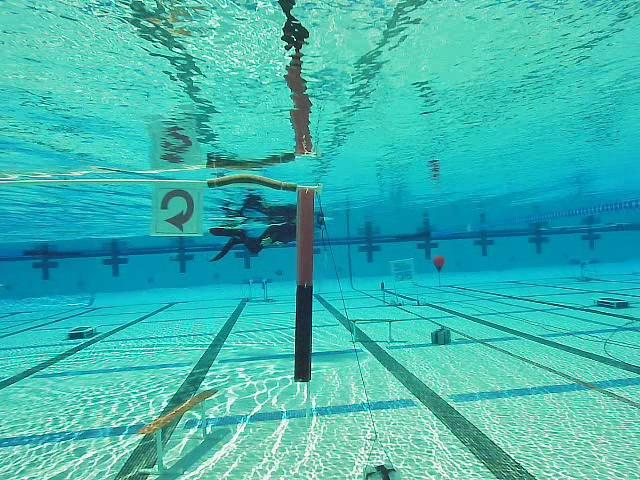buoy: (432, 256, 445, 273)
dropper: (591, 294, 629, 310), (67, 324, 95, 340)
gate_leg_r: (293, 184, 320, 384)
gate_red: (150, 184, 207, 239)
table: (245, 277, 273, 303)
torpedo: (392, 260, 414, 283)
